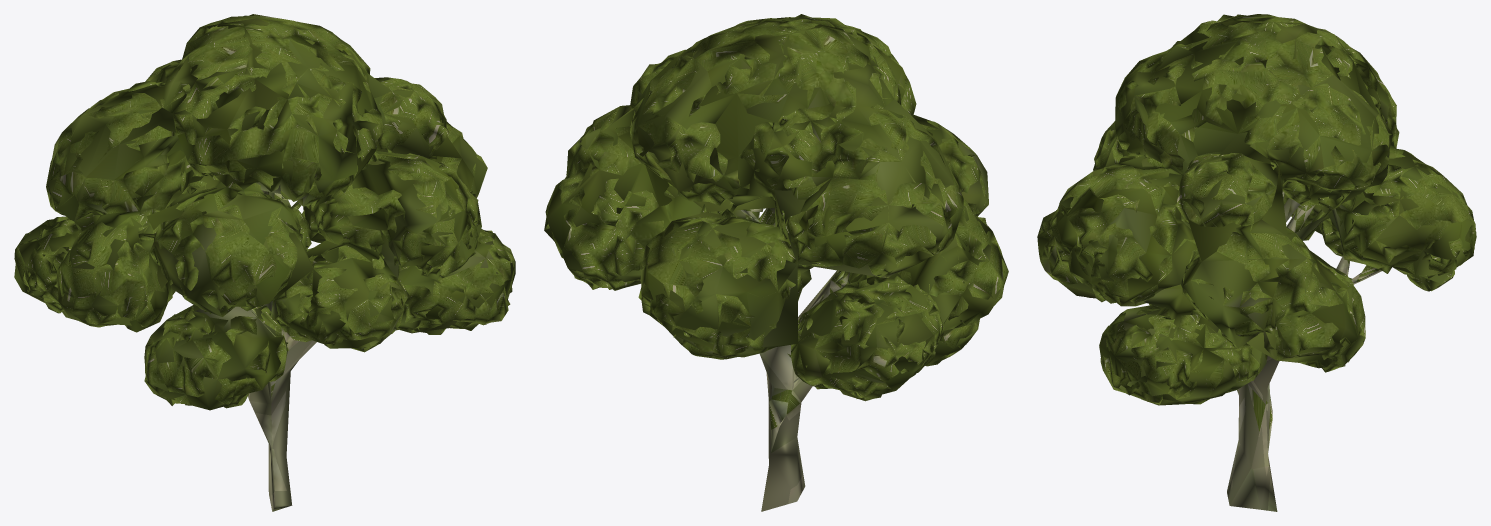
File: haya.glb
3 renders of one model, left to right at view 1: azimuth 30°, elevation 25°; view 2: azimuth 150°, elevation 25°; view 3: azimuth 270°, elevation 25°, orthographic.
Parts seen in each view (by area): view 1: cerca, medio, lejos; view 2: cerca, medio, lejos; view 3: cerca, medio, lejos.
Part boxes in pixels (left/top/right/bottom): cerca: left=14, top=14, right=515, bottom=511; medio: left=14, top=15, right=515, bottom=509; lejos: left=24, top=20, right=515, bottom=511; cerca: left=544, top=14, right=1008, bottom=503; medio: left=544, top=17, right=1007, bottom=507; lejos: left=544, top=43, right=953, bottom=511; cerca: left=1037, top=14, right=1476, bottom=511; medio: left=1037, top=14, right=1475, bottom=508; lejos: left=1065, top=42, right=1461, bottom=510.
Size of the model in its own units: 9.79 by 10.77 by 8.98.
2 materials, 1 textured.
